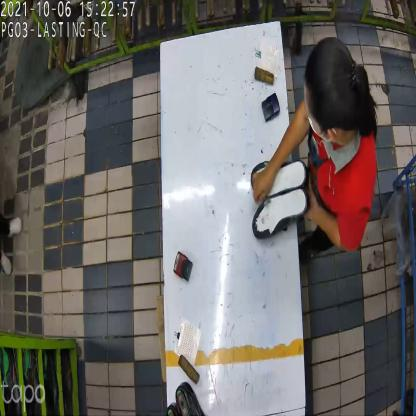shoes: (250, 152, 309, 243)
stamp: (173, 250, 195, 283), (260, 91, 280, 125)
